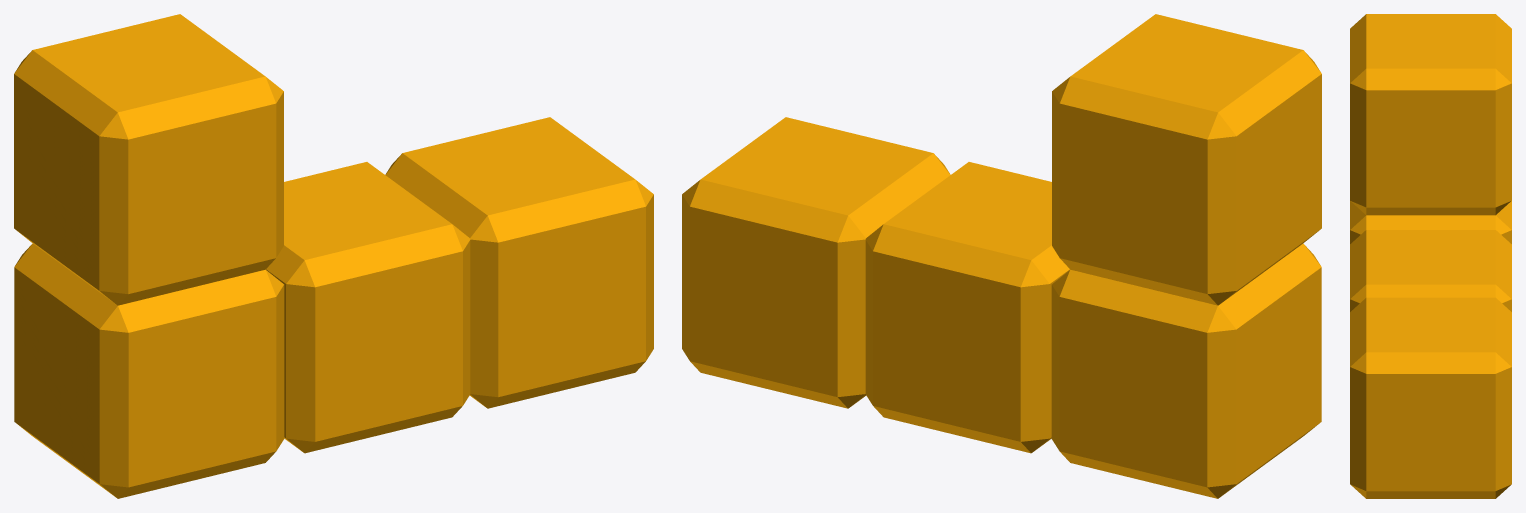
Rendered from Tetris_J&L.fbx.
3 views of the same model, side by side, from view 1: azimuth 30°, elevation 25°; view 2: azimuth 150°, elevation 25°; view 3: azimuth 270°, elevation 25° (orthographic). The views are drawn at different scales.
Parts seen in each view (by area): view 1: Box100; view 2: Box100; view 3: Box100.
Boxes of the visible parts, <box> form: Box100: <box>14,14,653,498</box>; Box100: <box>682,14,1321,498</box>; Box100: <box>1350,14,1511,498</box>.
Size of the model in its own units: 300 by 200 by 100.
